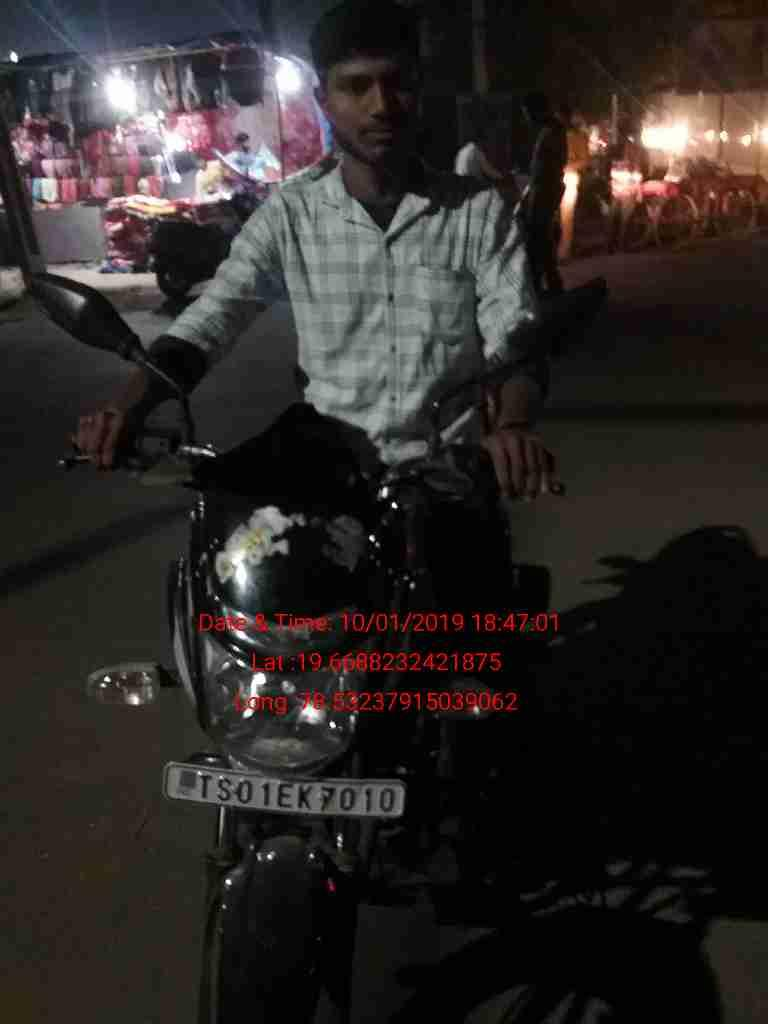plate: (166, 758, 411, 825)
